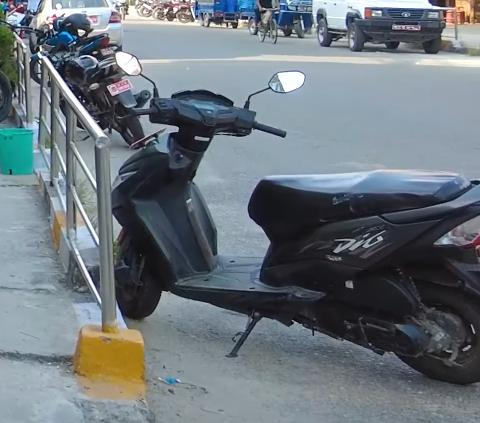scooter: (89, 48, 480, 396)
